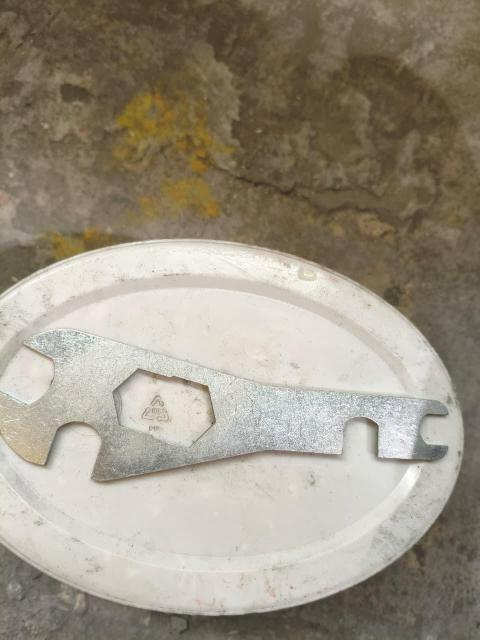Metal: (0, 328, 453, 480)
